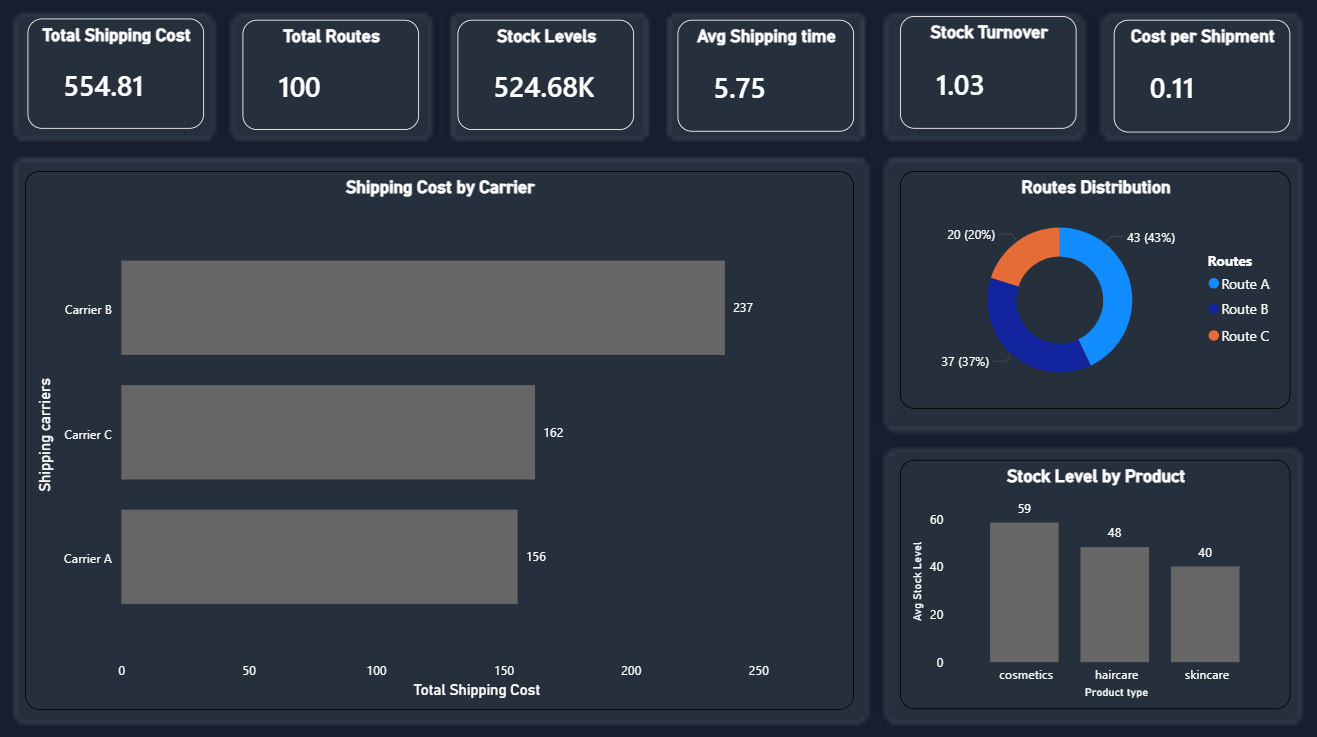

What the dashboard file says about the page in this screenshot:
{"tool":"powerbi","page":{"name":"LOGISTICS","canvas":[1280,720],"ordinal":2},"visuals":[{"type":"cardVisual","title":"Total Shipping Cost","fields":{"Data":["supply-chain.Total Shipping Cost"]},"box":[31.1,21.3,170.5,106.6],"z":0},{"type":"cardVisual","title":"Total Routes","fields":{"Data":["supply-chain.Total Routes"]},"box":[239.3,23,170.5,106.6],"z":1000},{"type":"cardVisual","title":"Stock Levels","fields":{"Data":["supply-chain.Profit"]},"box":[445.9,23,170.5,106.6],"z":2000},{"type":"cardVisual","title":"Avg Shipping time","fields":{"Data":["supply-chain.Avg Shipping Time"]},"box":[659,23,170.5,108.2],"z":4000},{"type":"clusteredBarChart","title":"Shipping Cost by Carrier","fields":{"Category":["supply-chain.Shipping carriers"],"Y":["supply-chain.Total Shipping Cost"]},"box":[29.5,168.9,800,519.7],"z":6000},{"type":"donutChart","title":"Routes Distribution","fields":{"Category":["supply-chain.Routes"],"Y":["CountNonNull(supply-chain.Routes)"]},"box":[873.8,168.9,377,229.5],"z":7000},{"type":"clusteredColumnChart","title":"Stock Level by Product","fields":{"Category":["supply-chain.Product type"],"Y":["supply-chain.Avg Stock Level"]},"box":[873.8,447.5,377,241],"z":8000},{"type":"cardVisual","title":"Stock Turnover","fields":{"Data":["supply-chain.Stock Turnover"]},"box":[873.2,19.7,170.4,108.5],"z":8001},{"type":"cardVisual","title":"Cost per Shipment","fields":{"Data":["supply-chain.Cost per Shipment"]},"box":[1080.3,22.5,170.4,108.5],"z":8002}]}

Visuals, with their boxes in screenshot pixels (x1, y1, x2, y2), scaled from the page's 1280x720 canvas onto the 1317x737 screenshot:
"Total Shipping Cost" cardVisual: pyautogui.locateOnScreen(32, 22, 207, 131)
"Total Routes" cardVisual: pyautogui.locateOnScreen(246, 24, 422, 133)
"Stock Levels" cardVisual: pyautogui.locateOnScreen(459, 24, 634, 133)
"Avg Shipping time" cardVisual: pyautogui.locateOnScreen(678, 24, 853, 134)
"Shipping Cost by Carrier" clusteredBarChart: pyautogui.locateOnScreen(30, 173, 853, 705)
"Routes Distribution" donutChart: pyautogui.locateOnScreen(899, 173, 1287, 408)
"Stock Level by Product" clusteredColumnChart: pyautogui.locateOnScreen(899, 458, 1287, 705)
"Stock Turnover" cardVisual: pyautogui.locateOnScreen(898, 20, 1074, 131)
"Cost per Shipment" cardVisual: pyautogui.locateOnScreen(1112, 23, 1287, 134)
